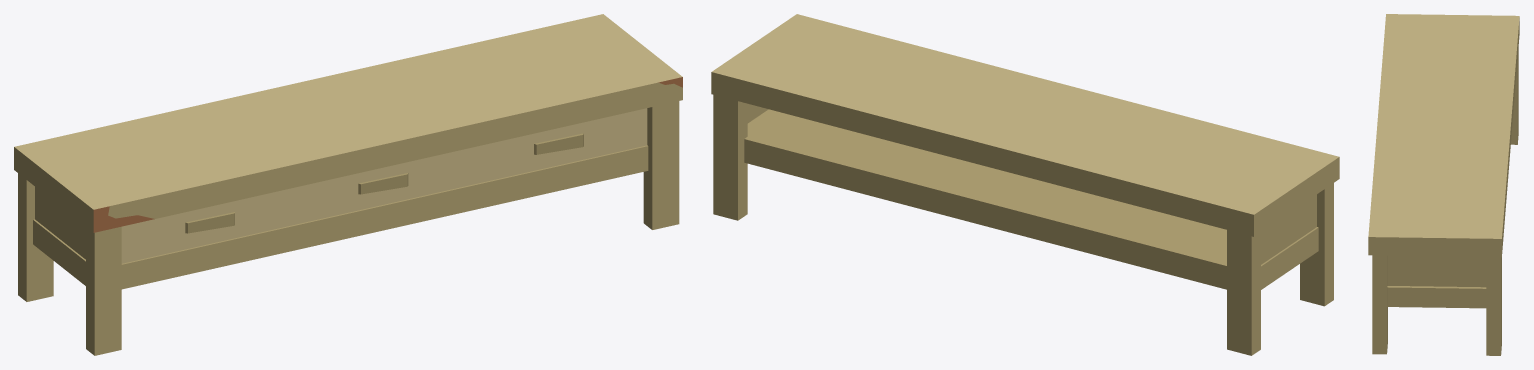
The model's file is MSH_QuestObject_box_02.fbx.
3 views of the same model, side by side, from view 1: azimuth 30°, elevation 25°; view 2: azimuth 150°, elevation 25°; view 3: azimuth 270°, elevation 25° (orthographic). The views are drawn at different scales.
Parts seen in each view (by area): view 1: MSH_QuestObject_box_02; view 2: MSH_QuestObject_box_02; view 3: MSH_QuestObject_box_02.
Boxes of the visible parts, <box> form: MSH_QuestObject_box_02: <box>14,14,682,355</box>; MSH_QuestObject_box_02: <box>711,14,1339,355</box>; MSH_QuestObject_box_02: <box>1368,14,1519,355</box>.
Size of the model in its own units: 6.42 by 1.56 by 1.82.
